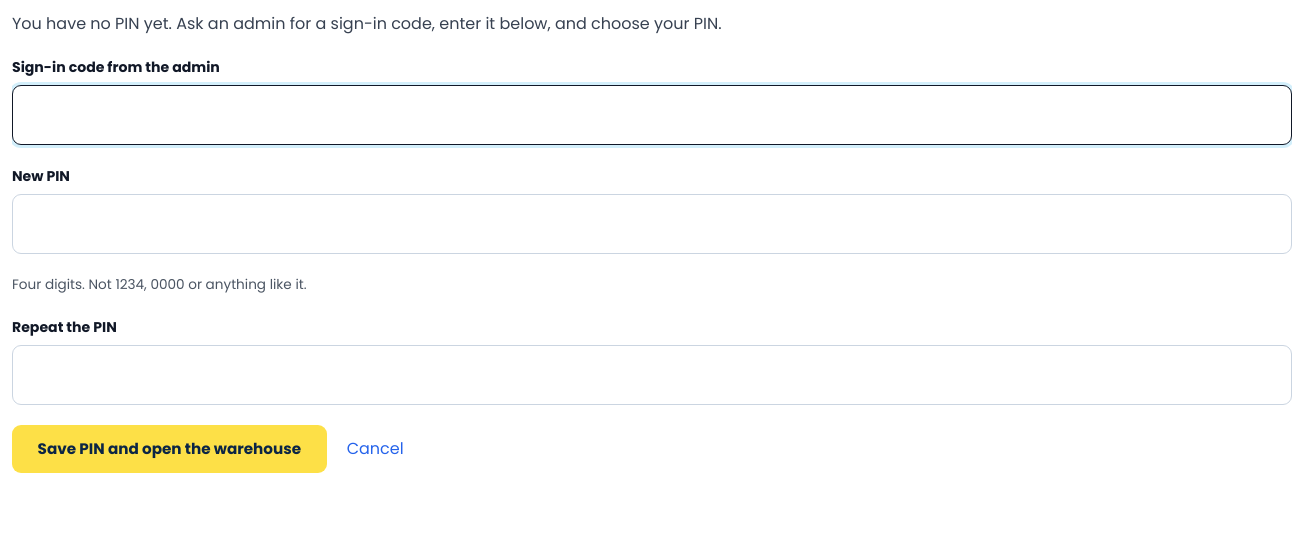
setting a PIN on the profile page › shows why an easy PIN was refused, and keeps the code
The image size is (1304, 556).
Type "4821" into the field labelled "Sign-in code from the admin" at (652, 115), box [12,85,1292,145]
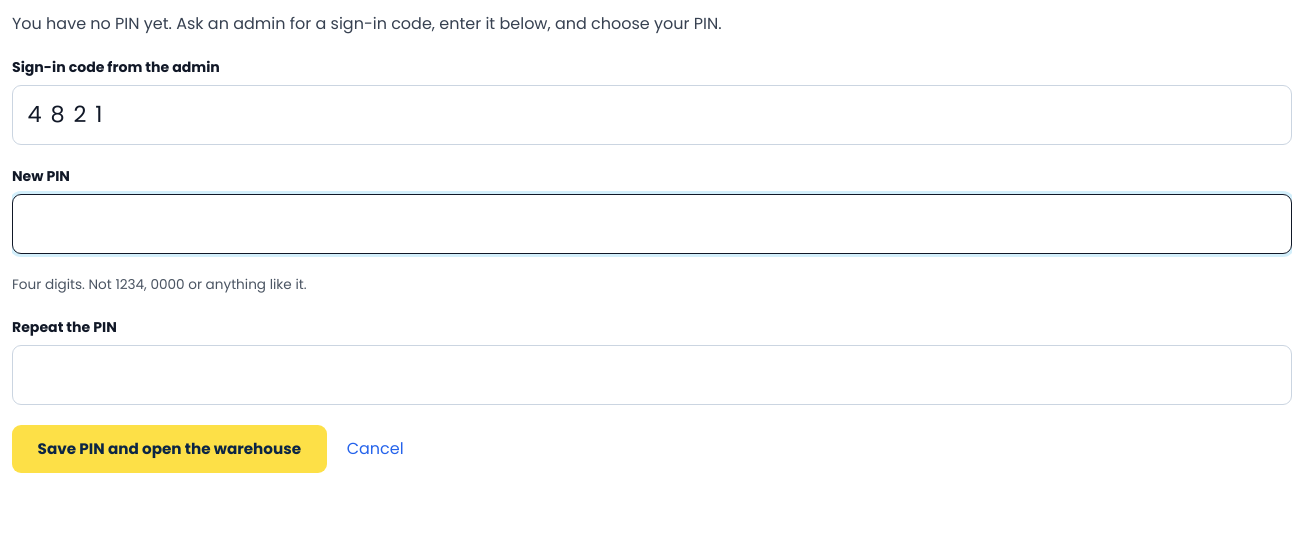
Type "1234" into the password field labelled "New PIN" at (652, 224), box [12,194,1292,254]
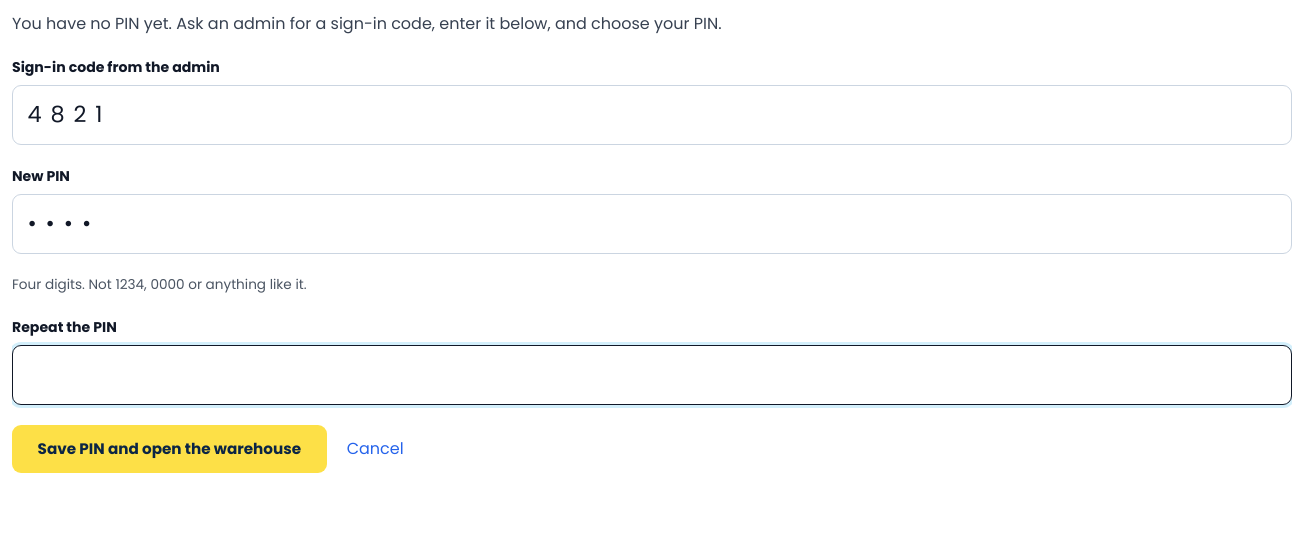
Type "1234" into the password field labelled "Repeat the PIN" at (652, 375), box [12,345,1292,405]
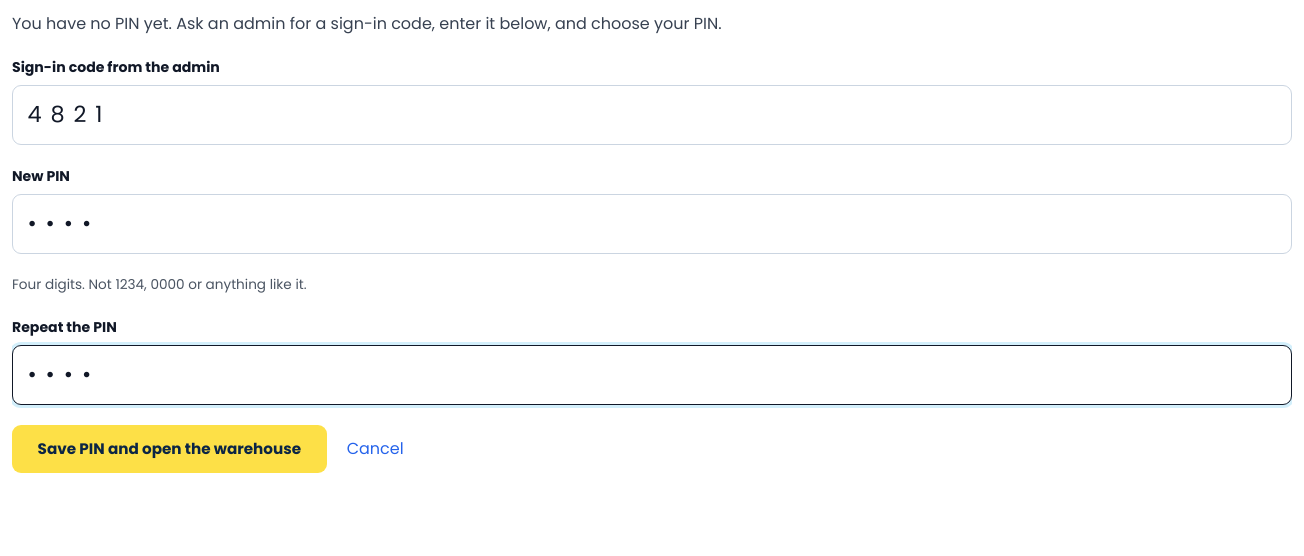
Click the button "Save PIN and open the warehouse" at (169, 449), box [12,425,327,473]
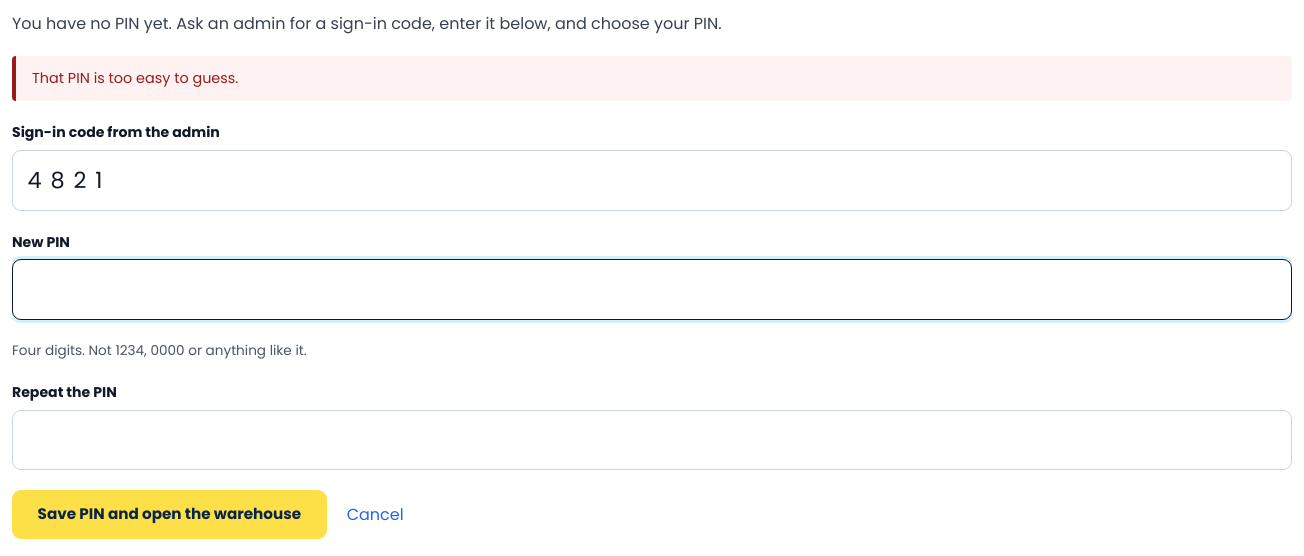
expect the message "That PIN is too easy to guess." is shown: met, box [12,56,1292,101]
expect the password field labelled "New PIN" is empty: met, box [12,259,1292,320]
